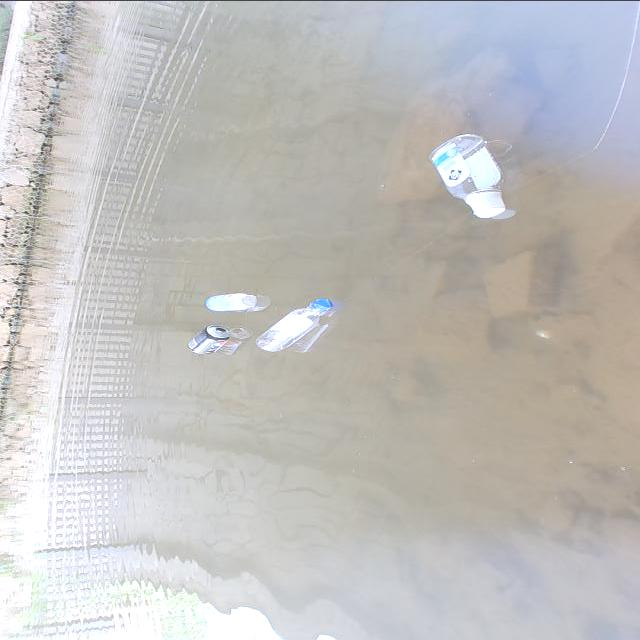bottle: (398, 112, 530, 240), (244, 290, 342, 356), (202, 284, 254, 314)
